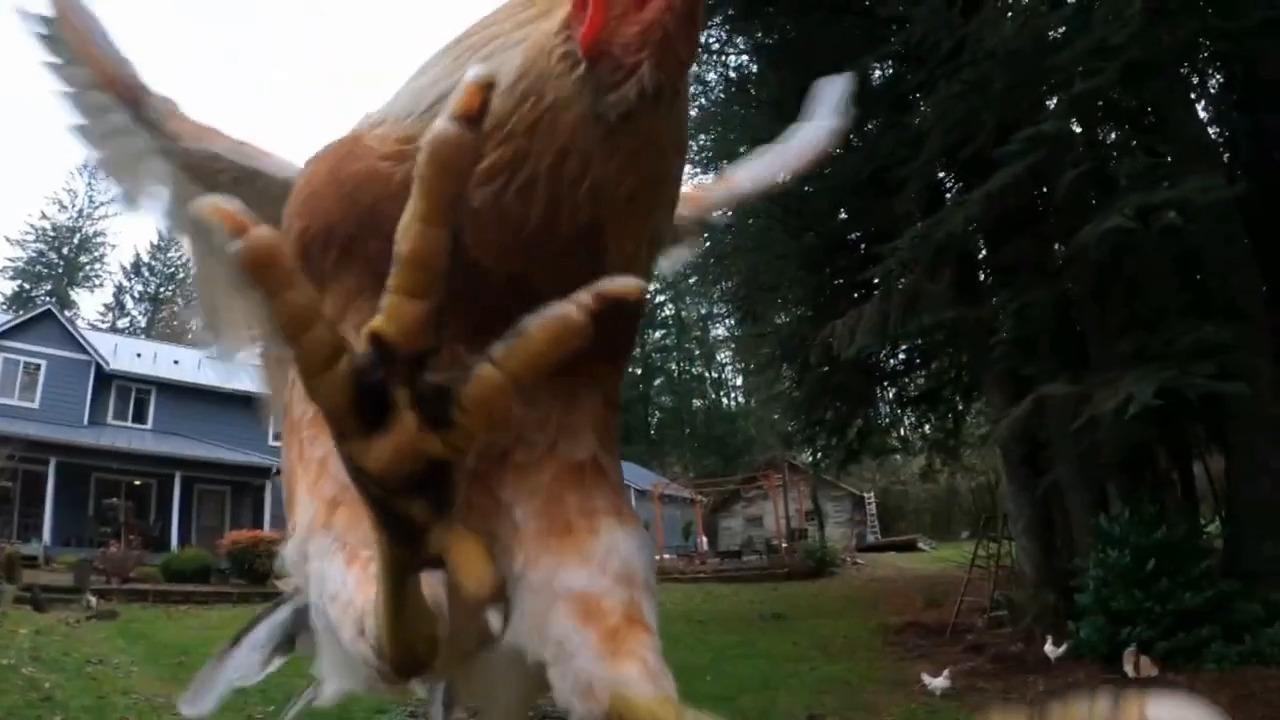Normal: (22, 2, 798, 720)
